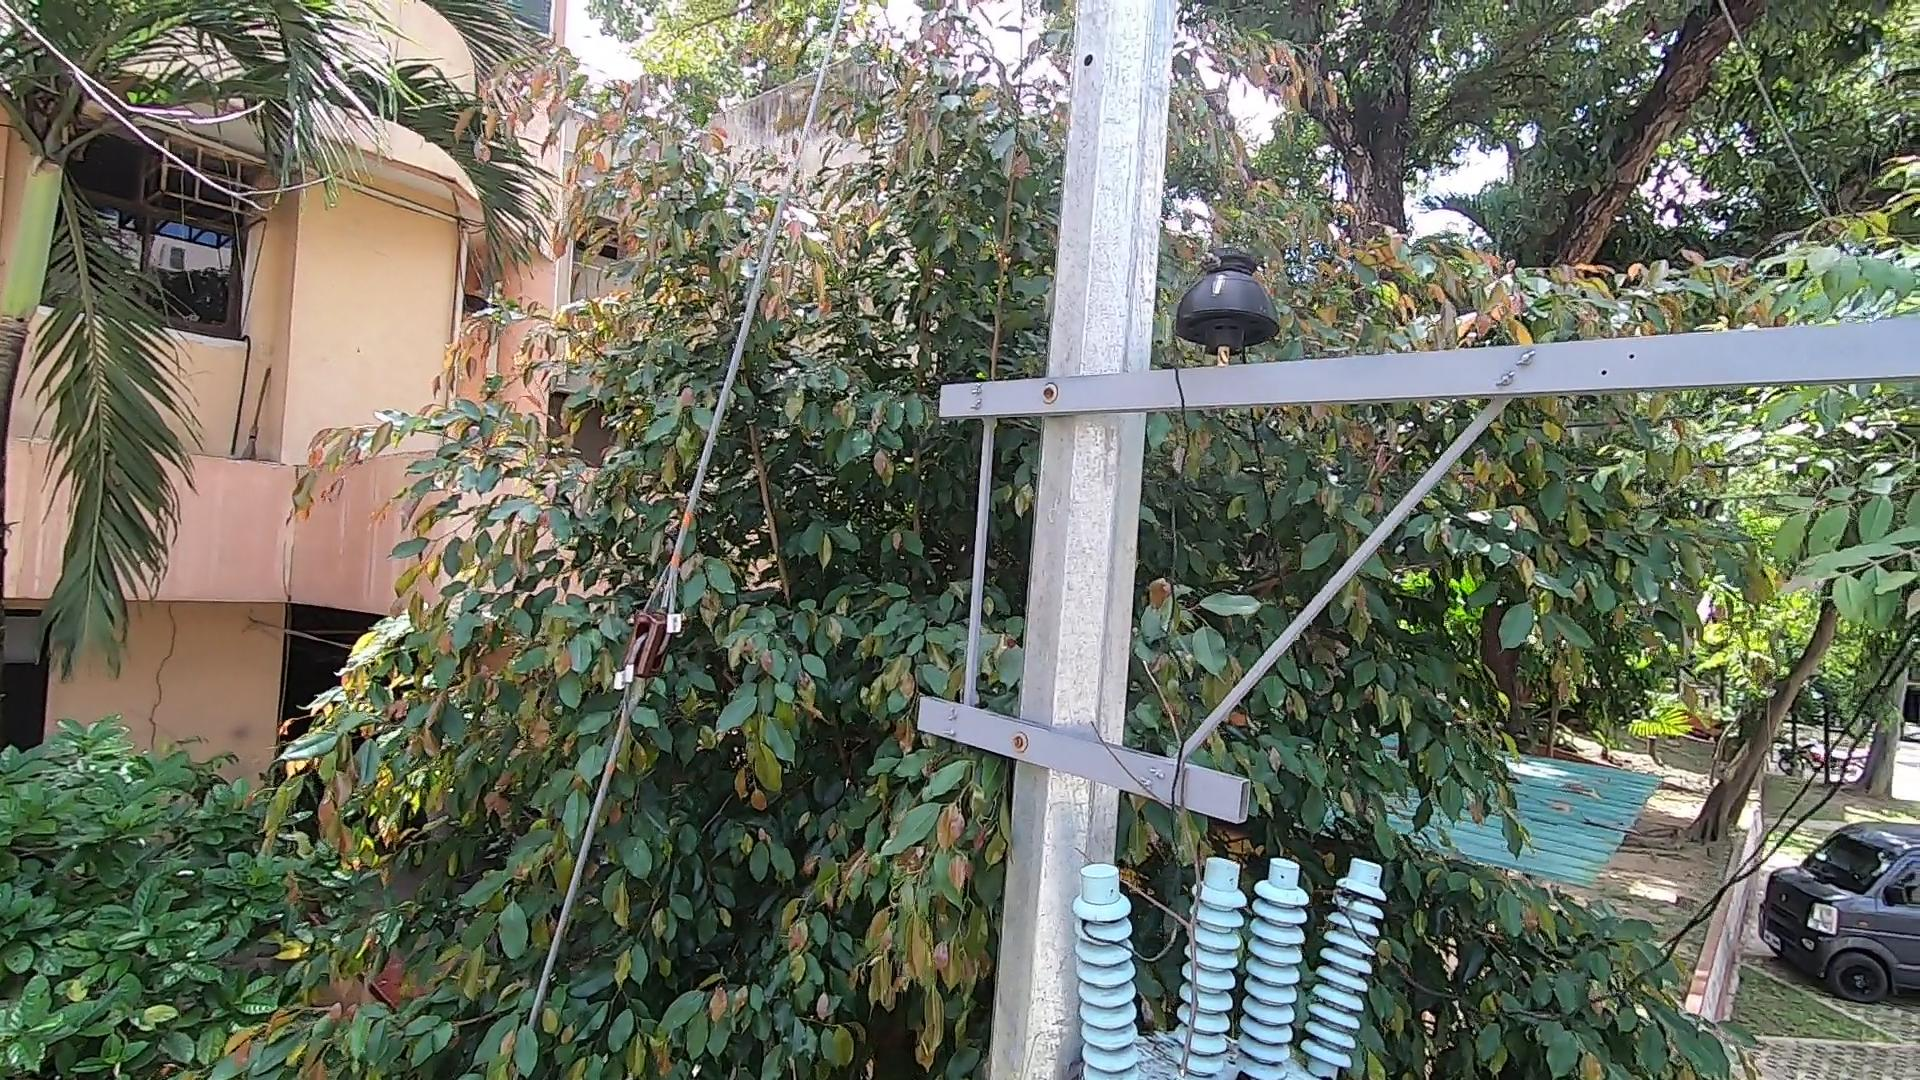tree branch: (1085, 621, 1236, 1080)
